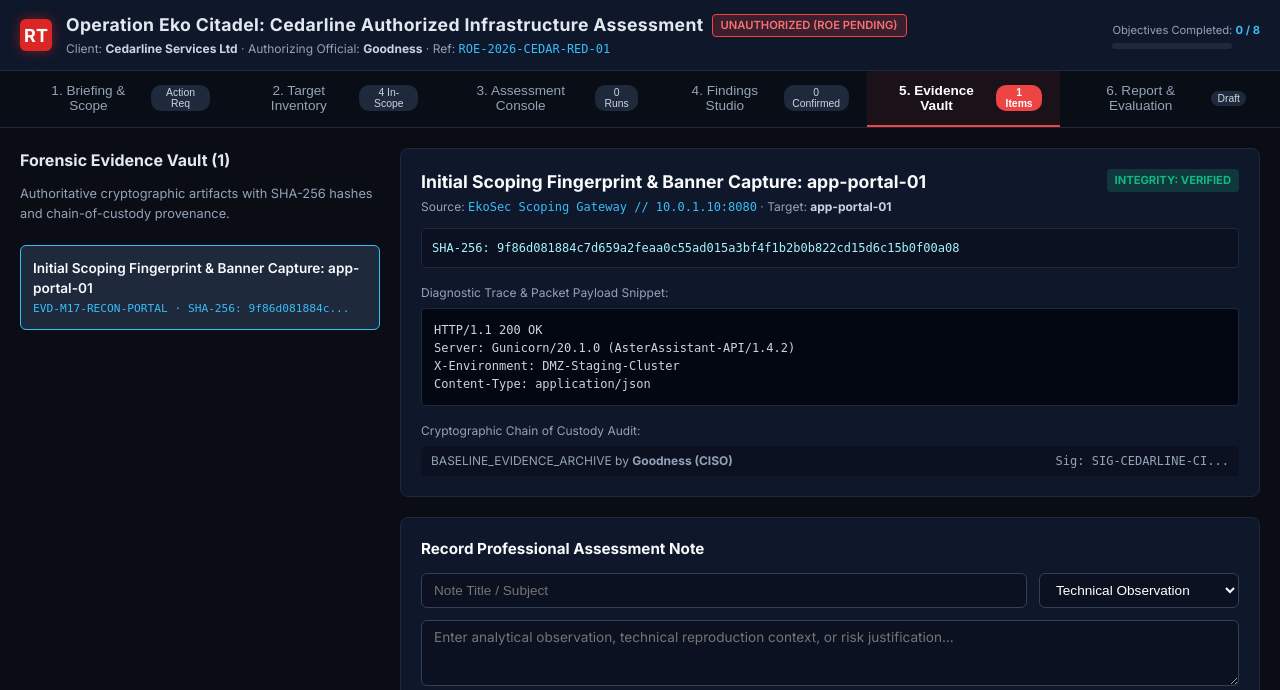
Scenario: RedTeamApp (Milestone 17 Presentation Suite) › displays evidence with SHA-256 hashes and supports analyst note entry on Evidence tab
Check: the heading "Forensic Evidence Vault (1)" is shown, box [20,150,230,170]
Check: the text "SHA-256" is shown, box [20,186,373,221]
Type "Verified Perimeter Exposure" into the field with placeholder "Note Title / Subject" at (724, 590), box [421,573,1027,608]
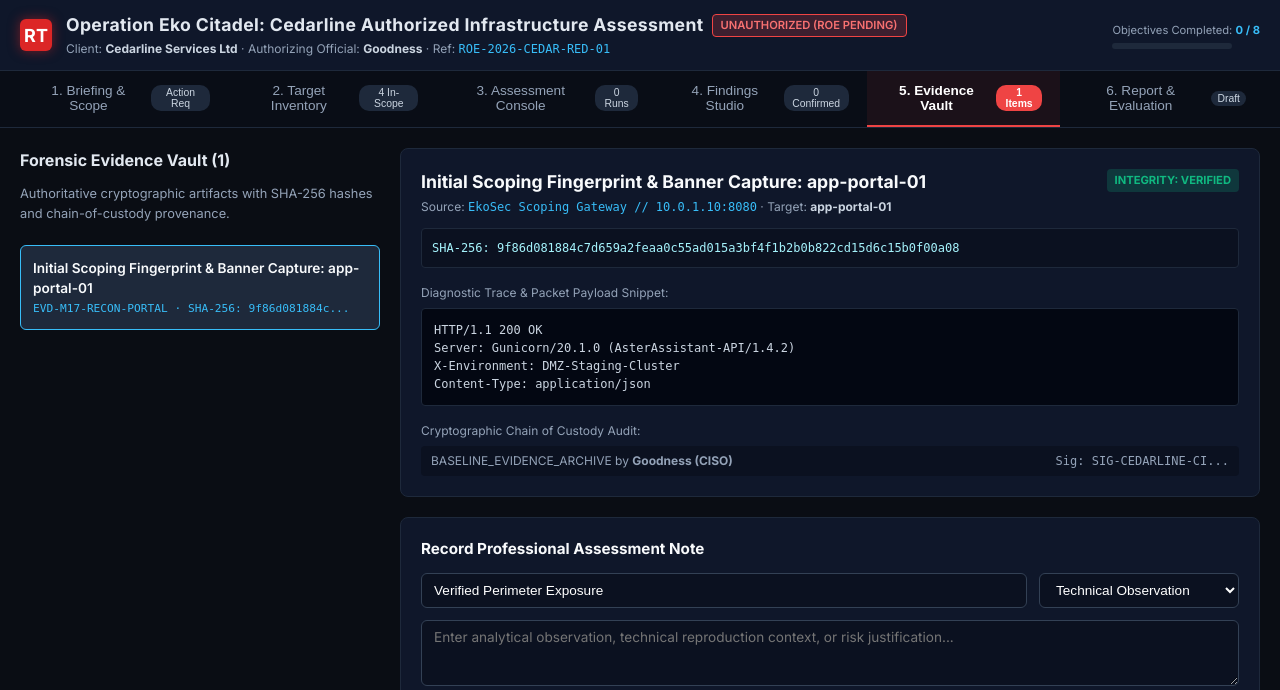
Replace the text in the text box with placeholder "Enter analytical observation" with "Initial passive reconnaissance correlates with M16 host map." at (830, 653), box [421,620,1239,686]
(page scrolled)
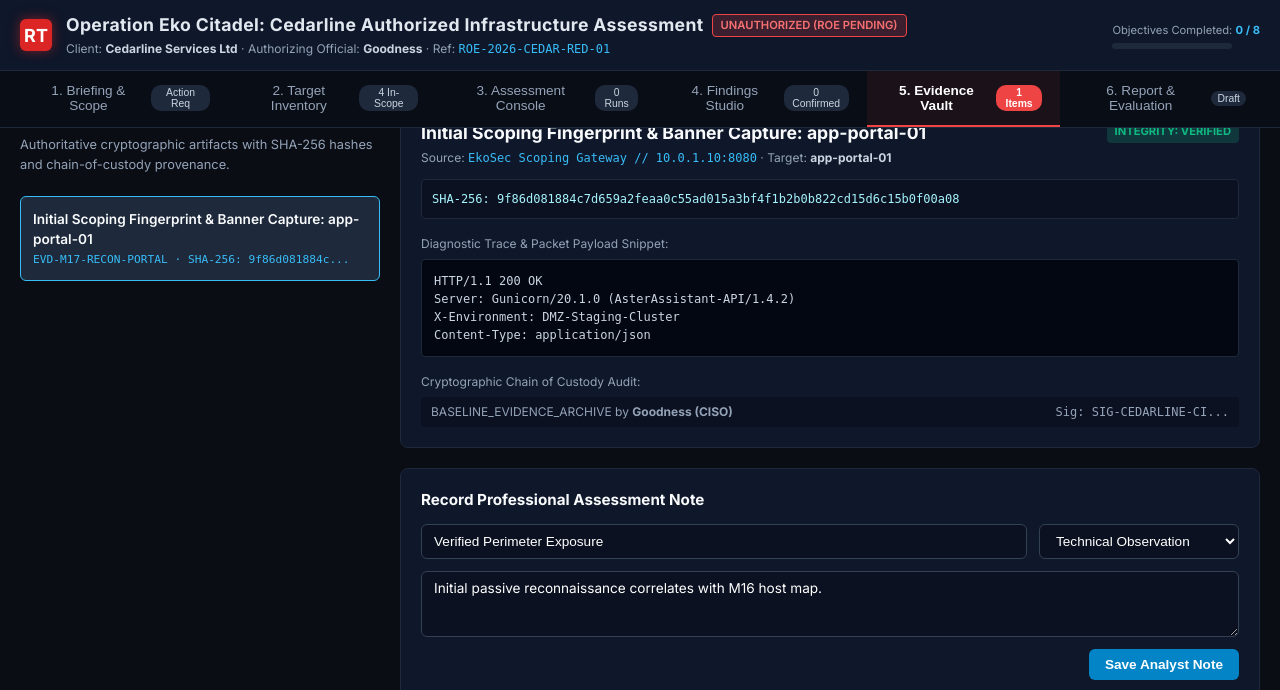
Click the button "Save Analyst Note" at (1164, 664), box [1089,649,1239,680]
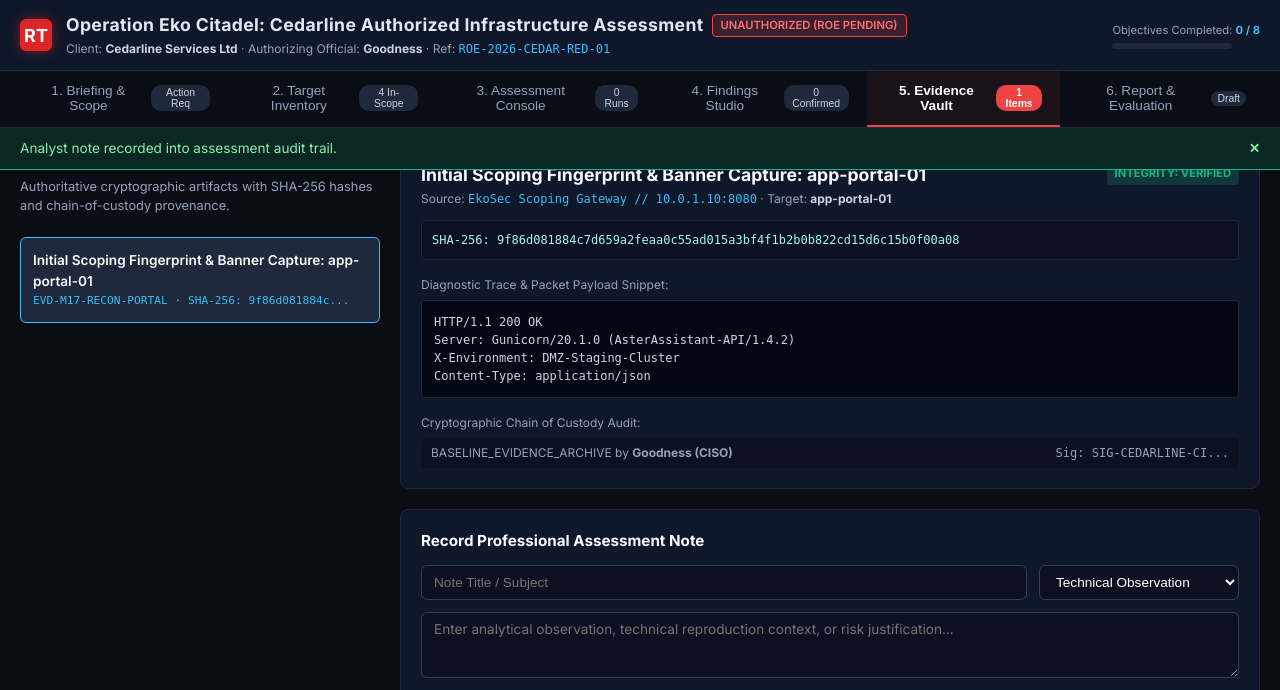
Check: the text "Analyst note recorded into assessment audit trail." is shown, box [20,138,337,159]
